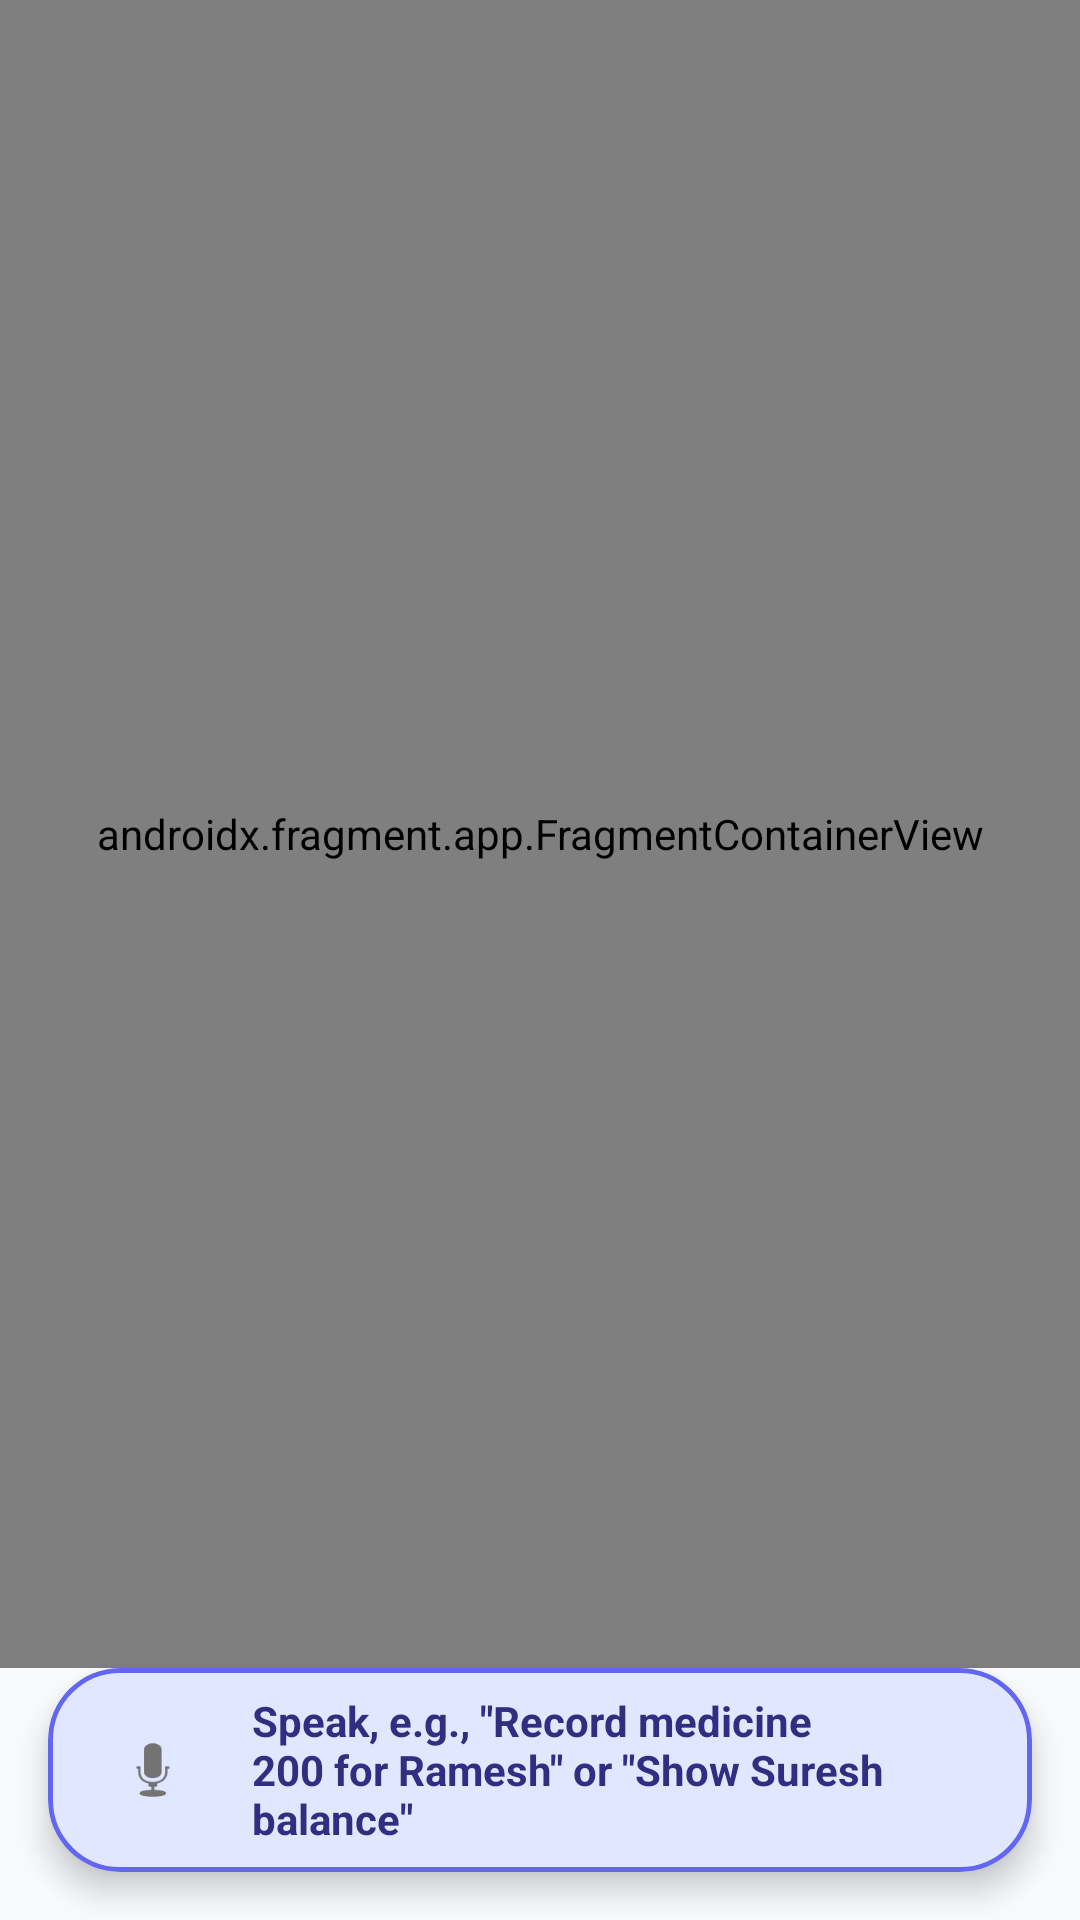

Where to tap for icons on this 1080*1920 app screen, as (x,y):
Voice: (153,1770)
